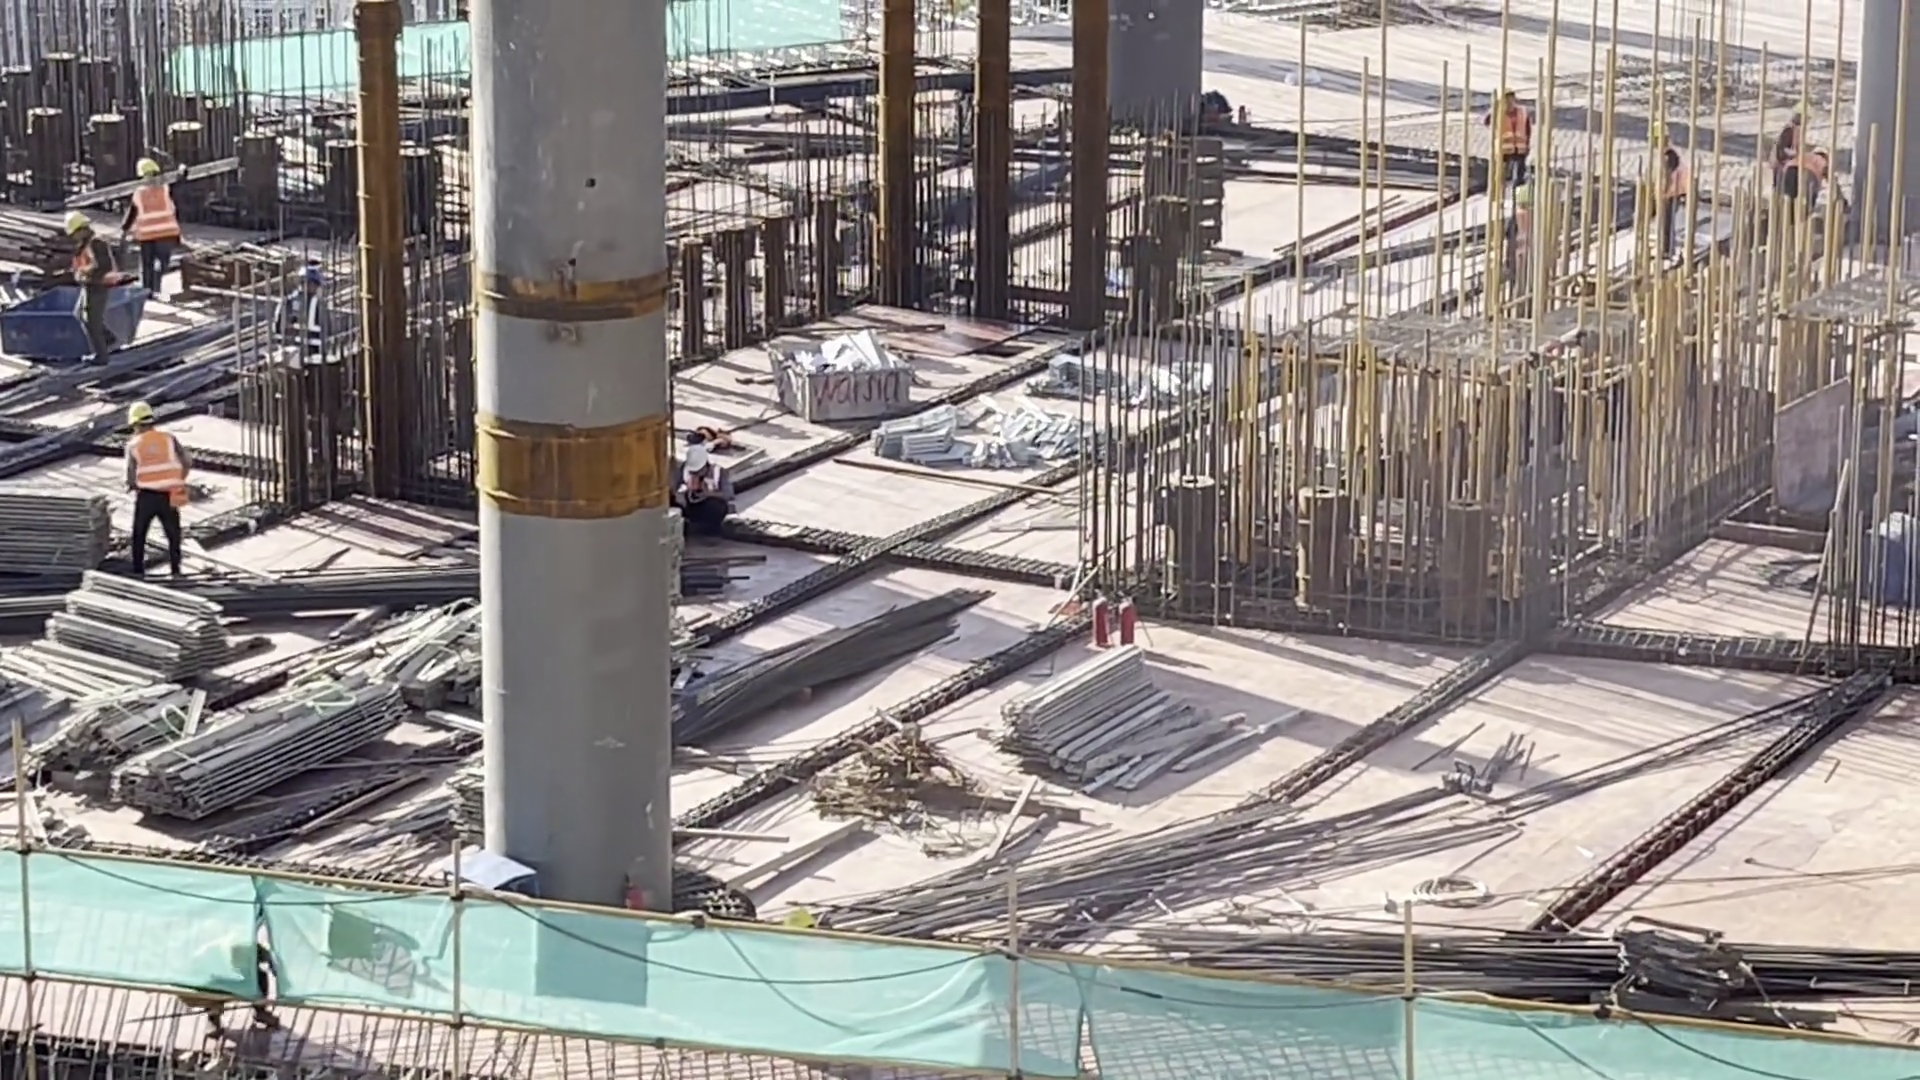helmet: (119, 385, 158, 431), (56, 212, 95, 248), (675, 431, 706, 471), (128, 154, 163, 186)
person: (41, 191, 119, 374), (96, 409, 195, 550), (121, 152, 188, 294), (1474, 82, 1532, 209), (1634, 124, 1680, 249), (673, 439, 728, 537), (1791, 122, 1828, 232)
vest: (119, 422, 185, 493), (130, 183, 181, 243), (1489, 105, 1525, 168), (74, 254, 114, 295)
